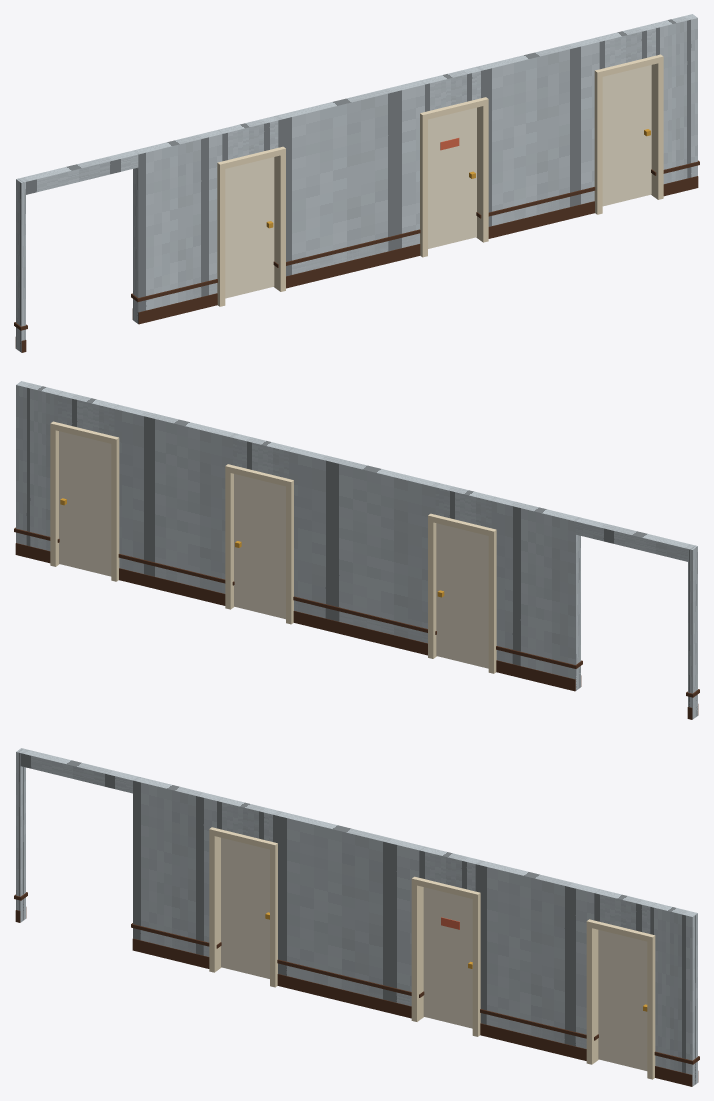
Rendered from hall_back.glb.
3 renders of one model, top to bottom at view 1: azimuth 30°, elevation 25°; view 2: azimuth 150°, elevation 25°; view 3: azimuth 330°, elevation 25°, orthographic.
Visible parts, largest first — view 1: Box5, Box7, Box3, Box31, Box25, Box18, Box9, Box11, Box12, Box14, Box13, Box23 (+13 smaller); view 2: Box5, Box7, Box3, Box25, Box31, Box18, Box9, Box11, Box12, Box14, Box13, Box6 (+11 smaller); view 3: Box5, Box7, Box3, Box9, Box25, Box31, Box18, Box11, Box13, Box14, Box12, Box22 (+13 smaller).
Part boxes in pixels (x1=…): Box5: x1=273, y1=80, x2=424, y2=267; Box7: x1=476, y1=38, x2=599, y2=226; Box3: x1=133, y1=130, x2=222, y2=323; Box31: x1=225, y1=157, x2=274, y2=298; Box25: x1=602, y1=65, x2=651, y2=206; Box18: x1=428, y1=107, x2=476, y2=248; Box9: x1=651, y1=14, x2=697, y2=183; Box11: x1=21, y1=150, x2=138, y2=194; Box12: x1=217, y1=116, x2=278, y2=161; Box14: x1=595, y1=24, x2=655, y2=69; Box13: x1=420, y1=67, x2=480, y2=111; Box23: x1=651, y1=54, x2=663, y2=199; Box5: x1=289, y1=447, x2=440, y2=632; Box7: x1=114, y1=405, x2=237, y2=593; Box3: x1=491, y1=497, x2=580, y2=690; Box25: x1=59, y1=431, x2=111, y2=576; Box31: x1=436, y1=523, x2=488, y2=668; Box18: x1=234, y1=474, x2=285, y2=619; Box9: x1=16, y1=381, x2=62, y2=550; Box11: x1=575, y1=517, x2=692, y2=561; Box12: x1=435, y1=483, x2=496, y2=528; Box14: x1=58, y1=391, x2=118, y2=436; Box13: x1=233, y1=434, x2=293, y2=478; Box6: x1=293, y1=611, x2=427, y2=655; Box5: x1=273, y1=811, x2=424, y2=1004; Box7: x1=475, y1=860, x2=599, y2=1048; Box3: x1=133, y1=776, x2=221, y2=956; Box9: x1=650, y1=903, x2=697, y2=1086; Box25: x1=598, y1=930, x2=647, y2=1070; Box31: x1=221, y1=837, x2=269, y2=978; Box18: x1=423, y1=887, x2=472, y2=1028; Box11: x1=20, y1=749, x2=137, y2=793; Box13: x1=419, y1=846, x2=480, y2=891; Box14: x1=594, y1=889, x2=655, y2=933; Box12: x1=217, y1=797, x2=277, y2=841; Box22: x1=586, y1=919, x2=598, y2=1064.
Bounding box in the file's own units: 10.89 × 2.6 × 0.3.
6 materials, 1 textured.
